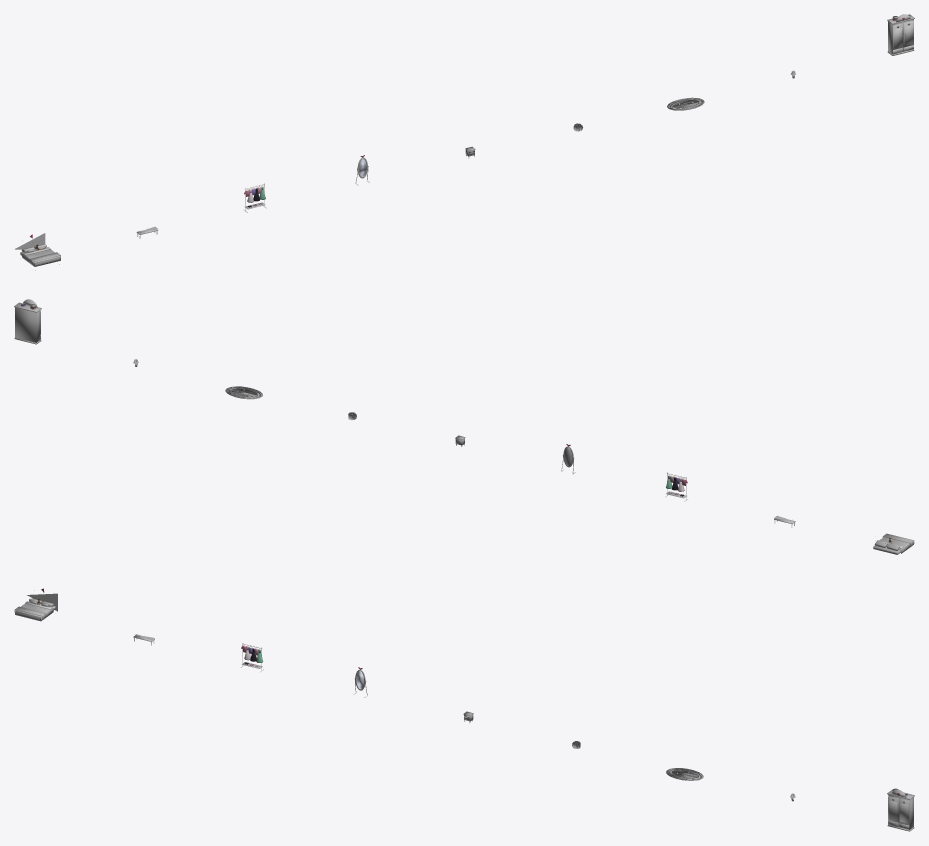
The model's file is bld_home_bed_lite.glb.
The picture shows the model from 3 angles, top to bottom: view 1: azimuth 30°, elevation 25°; view 2: azimuth 150°, elevation 25°; view 3: azimuth 330°, elevation 25°; orthographic projection.
Parts seen in each view (by area): view 1: INST_bld_home_bed_lite_wardrobe_s_wood; view 2: INST_bld_home_bed_lite_wardrobe_s_wood; view 3: INST_bld_home_bed_lite_wardrobe_s_wood.
Boxes of the visible parts, x1=… form: INST_bld_home_bed_lite_wardrobe_s_wood: x1=887, y1=14, x2=914, y2=55; INST_bld_home_bed_lite_wardrobe_s_wood: x1=14, y1=299, x2=41, y2=344; INST_bld_home_bed_lite_wardrobe_s_wood: x1=887, y1=789, x2=914, y2=831.
Size of the model in its own units: 66.16 by 2.82 by 2.61.
